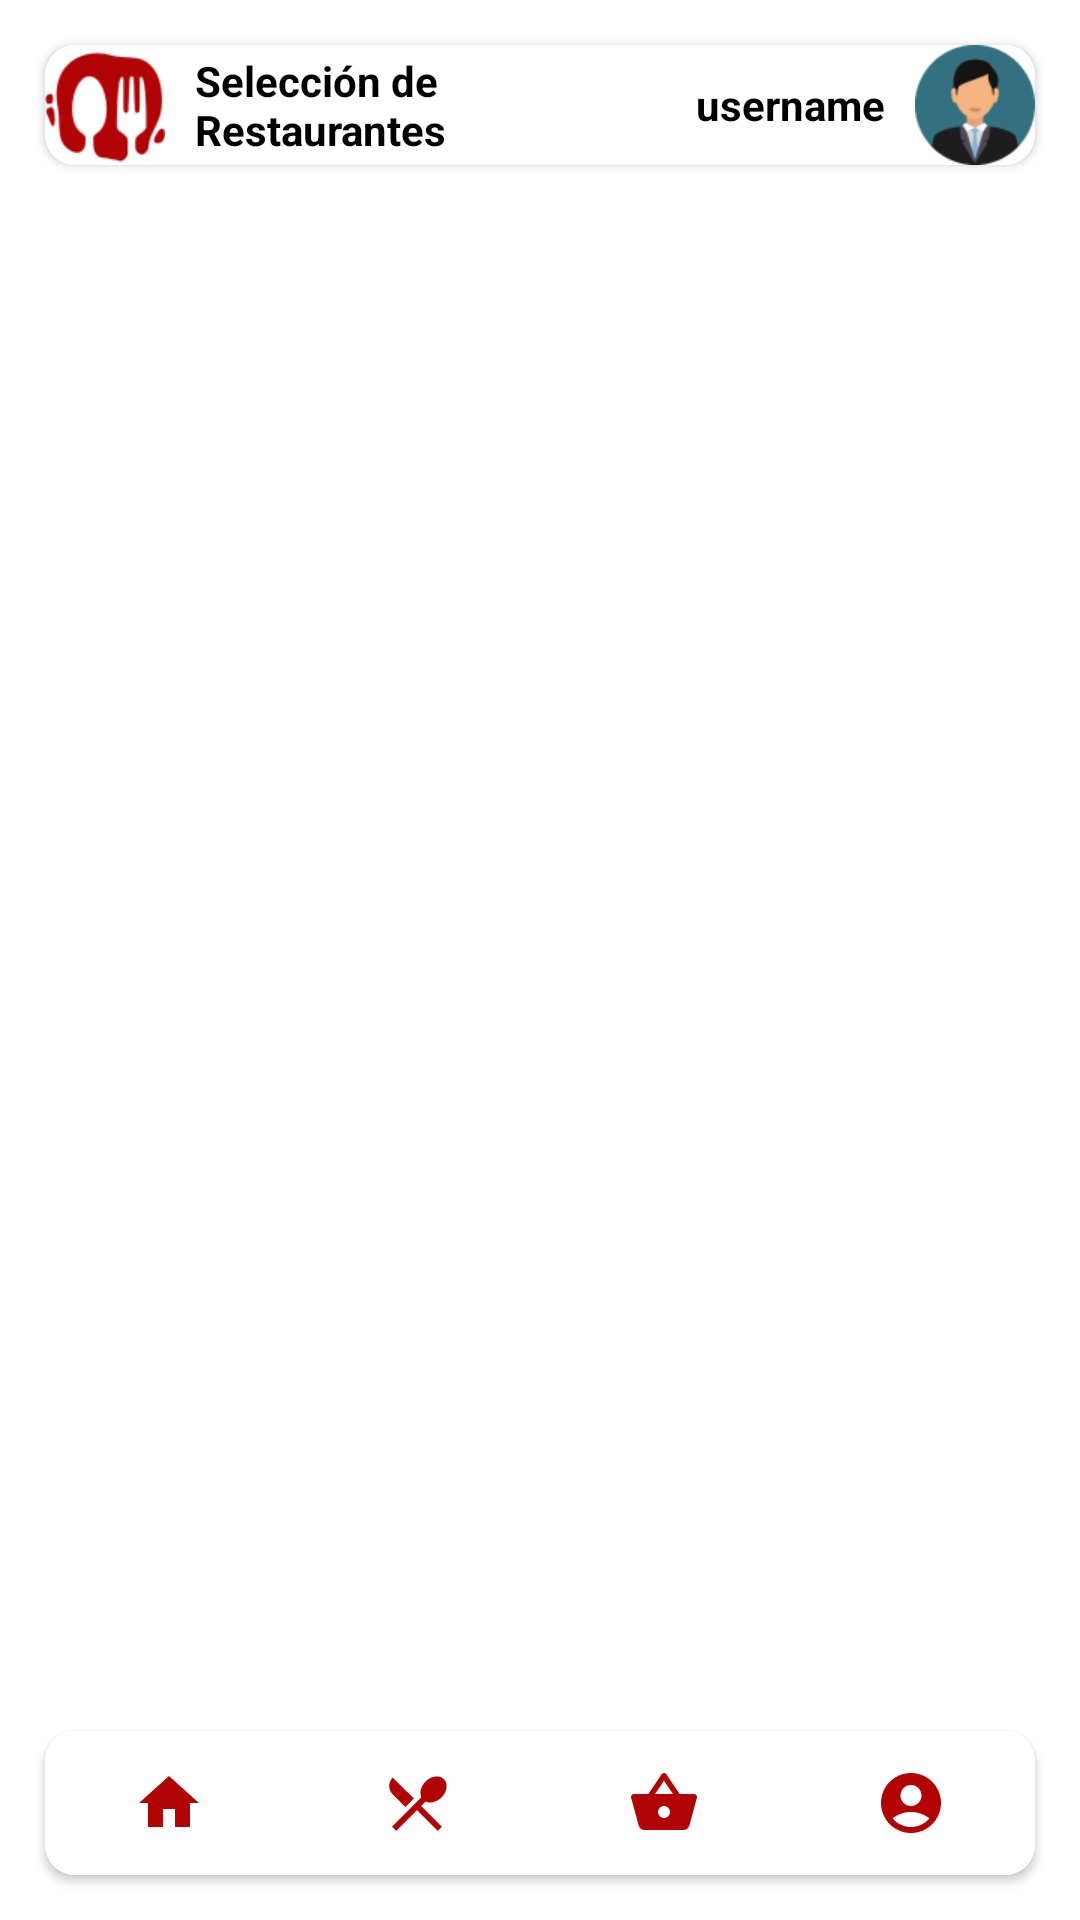

Screen size 1080*1920. Icon name, then its center in pixels as (x=x, y=y):
imguserfragment: (x=975, y=105)
